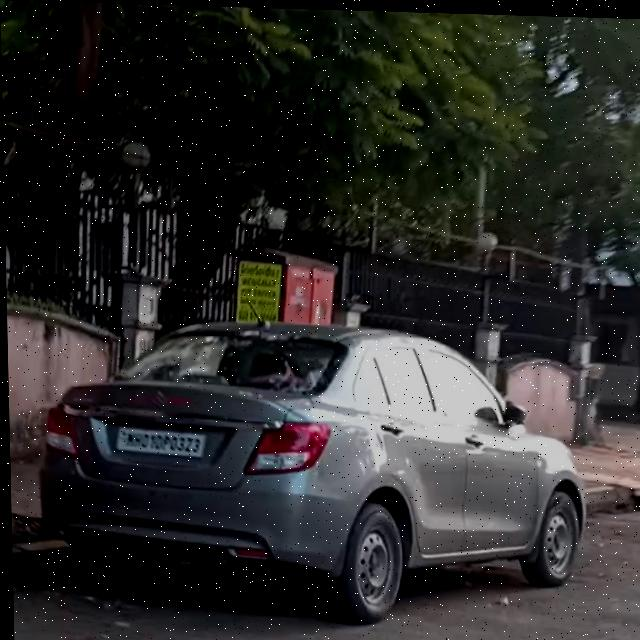plate: (113, 423, 207, 462)
